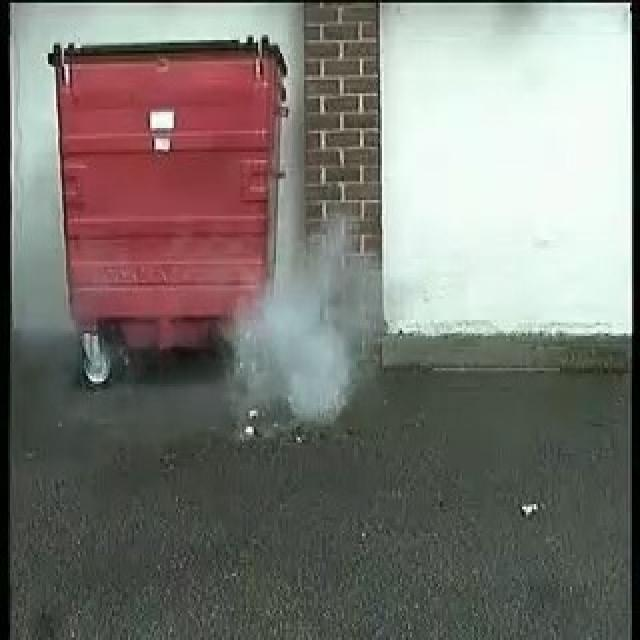smoke: (240, 223, 379, 424)
